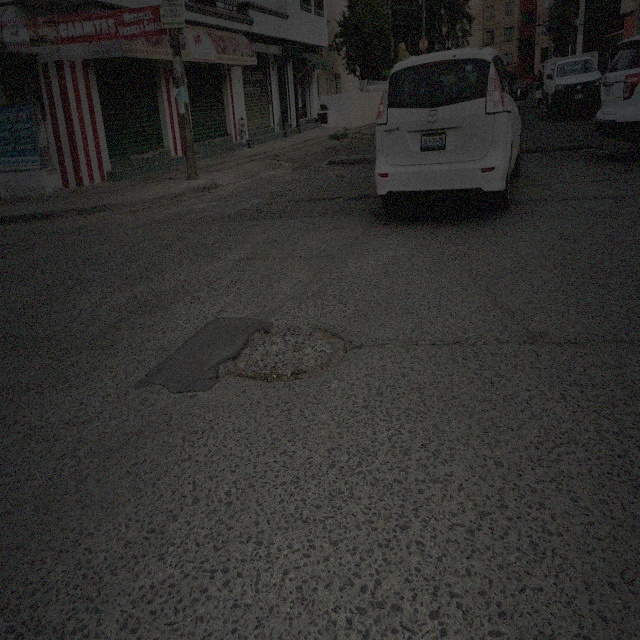pothole: (308, 325, 346, 378), (234, 328, 266, 380)
